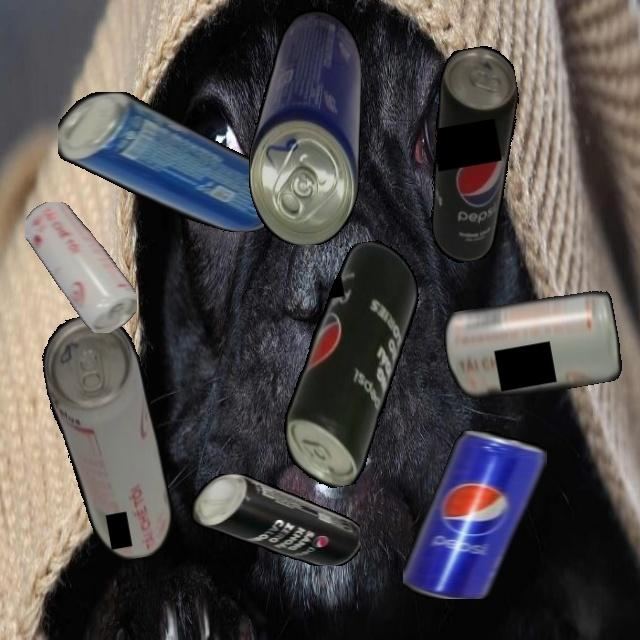debris: (255, 235, 449, 494), (36, 308, 179, 568), (57, 92, 286, 232), (403, 42, 545, 266), (248, 1, 361, 245), (403, 430, 547, 599), (440, 285, 625, 408), (184, 474, 360, 566), (25, 201, 137, 333)
